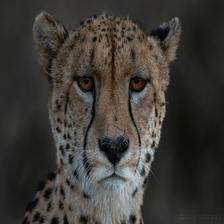Cheetah: (18, 12, 184, 224)
